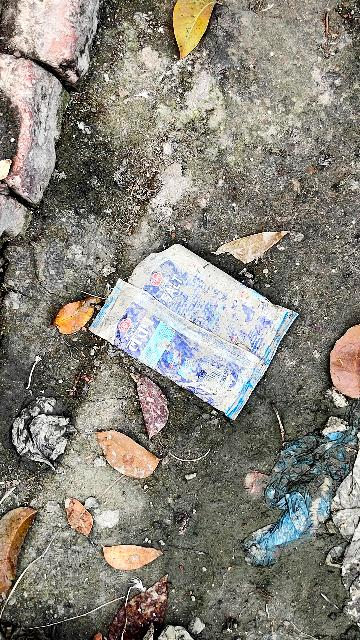packet: (89, 230, 297, 420)
